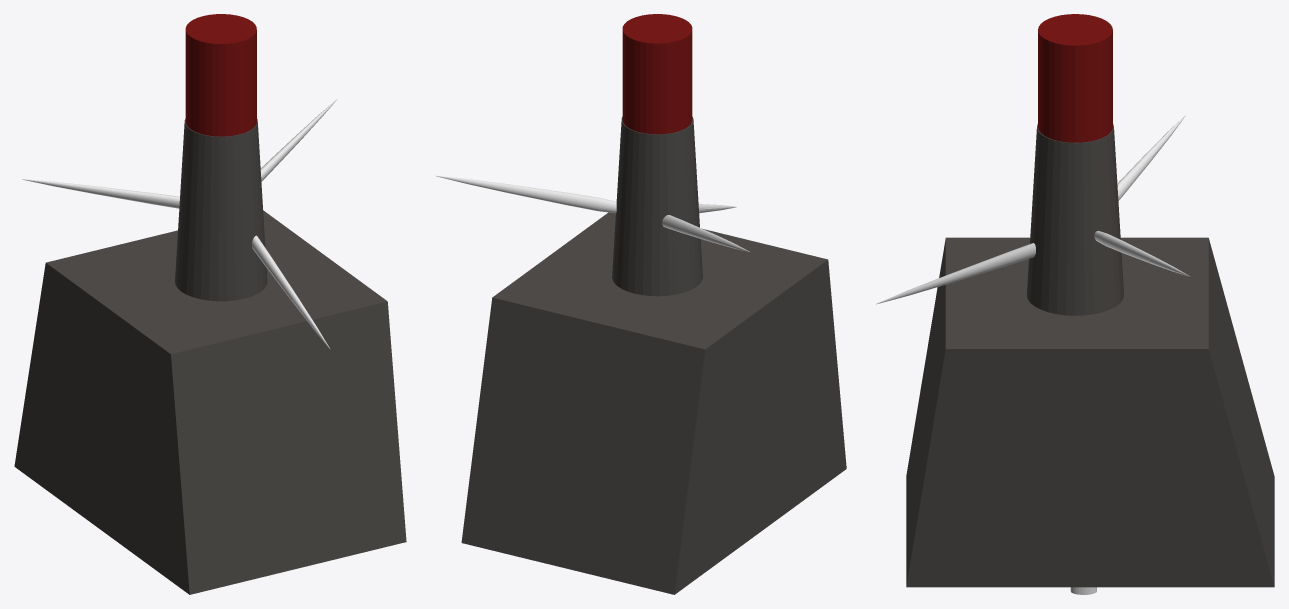
The model's file is Decarbonize.glb.
3 renders of one model, left to right at view 1: azimuth 30°, elevation 25°; view 2: azimuth 150°, elevation 25°; view 3: azimuth 270°, elevation 25°, orthographic. The views are drawn at different scales.
Parts seen in each view (by area): view 1: Cube, Cylinder.001, Cylinder, Cylinder.007; view 2: Cube, Cylinder.001, Cylinder, Cylinder.007; view 3: Cube, Cylinder.001, Cylinder, Cylinder.007.
Boxes of the visible parts, x1,y1,x2,y2 form: Cube: [14, 210, 406, 594]; Cylinder.001: [175, 118, 267, 301]; Cylinder: [185, 14, 256, 136]; Cylinder.007: [22, 99, 337, 348]; Cube: [461, 212, 846, 594]; Cylinder.001: [612, 116, 702, 296]; Cylinder: [622, 14, 692, 134]; Cylinder.007: [435, 175, 749, 251]; Cube: [906, 237, 1274, 587]; Cylinder.001: [1026, 124, 1123, 315]; Cylinder: [1038, 14, 1112, 142]; Cylinder.007: [876, 115, 1189, 304].
Size of the model in its own units: 2.94 by 4.73 by 3.03.
